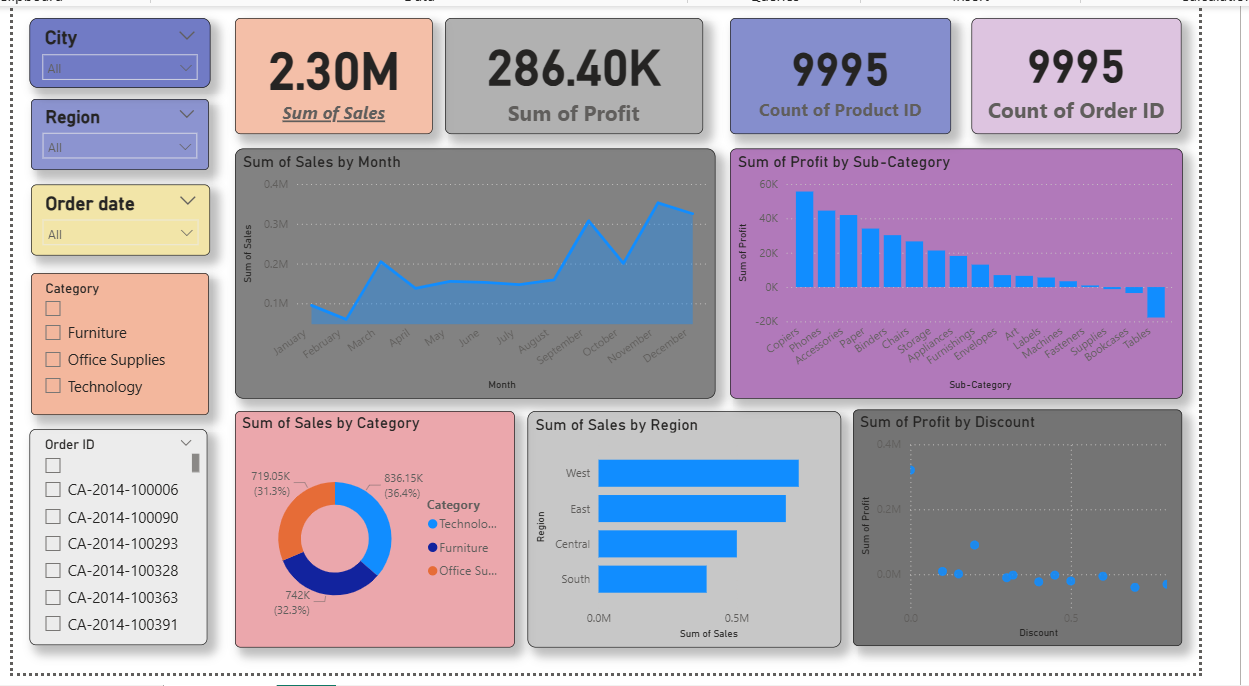

The page's visual inventory and layout, read from the dashboard file:
{"tool":"powerbi","page":{"name":"Page 1","canvas":[1280,720],"ordinal":0},"visuals":[{"type":"card","fields":{"Values":["Sum(Superstore cleaned 01.Profit)"]},"box":[466.7,13.3,278.3,125],"z":0},{"type":"card","fields":{"Values":["Sum(Superstore cleaned 01.Sales)"]},"box":[240,13.3,213.3,125],"z":1000},{"type":"card","fields":{"Values":["CountNonNull(Superstore cleaned 01.Order ID)"]},"box":[1035,13.3,226.7,125],"z":2000},{"type":"areaChart","fields":{"Category":["Superstore cleaned 01.Order date.Variation.Date Hierarchy.Month"],"Y":["Sum(Superstore cleaned 01.Sales)"]},"box":[240,153.3,518.3,270],"z":3000},{"type":"barChart","fields":{"Category":["Superstore cleaned 01.Region"],"Y":["Sum(Superstore cleaned 01.Sales)"]},"box":[555,436.7,338.3,255],"z":4000},{"type":"donutChart","fields":{"Category":["Superstore cleaned 01.Category"],"Y":["Sum(Superstore cleaned 01.Sales)"]},"box":[240,436.7,301.7,255],"z":5000},{"type":"columnChart","fields":{"Category":["Superstore cleaned 01.Sub-Category"],"Y":["Sum(Superstore cleaned 01.Profit)"]},"box":[773.3,153.3,488.3,270],"z":6000},{"type":"scatterChart","fields":{"Y":["Sum(Superstore cleaned 01.Profit)"],"X":["Superstore cleaned 01.Discount"]},"box":[906.7,435,355,255],"z":7000},{"type":"slicer","fields":{"Values":["Superstore cleaned 01.Region"]},"box":[20,100,191.7,76.7],"z":8000},{"type":"slicer","fields":{"Values":["Superstore cleaned 01.Category"]},"box":[20,288.3,191.7,153.3],"z":9000},{"type":"slicer","fields":{"Values":["Superstore cleaned 01.Order date"]},"box":[20,193.3,193.3,76.7],"z":10000},{"type":"slicer","fields":{"Values":["Superstore cleaned 01.Order ID"]},"box":[18.3,456.7,191.7,233.3],"z":10001},{"type":"card","fields":{"Values":["CountNonNull(Superstore cleaned 01.Product ID)"]},"box":[773.3,13.3,238.3,125],"z":10002},{"type":"slicer","fields":{"Values":["Superstore cleaned 01.City"]},"box":[18.3,13.3,195,75],"z":10003}]}

Visuals, with their boxes in screenshot pixels (x1, y1, x2, y2):
card - Sum(Superstore cleaned 01.Profit): select_region(445, 13, 707, 130)
card - Sum(Superstore cleaned 01.Sales): select_region(232, 13, 433, 130)
card - CountNonNull(Superstore cleaned 01.Order ID): select_region(979, 13, 1193, 130)
areaChart - Superstore cleaned 01.Order date.Variation.Date Hierarchy.Month x Sum(Superstore cleaned 01.Sales): select_region(232, 144, 719, 398)
barChart - Superstore cleaned 01.Region x Sum(Superstore cleaned 01.Sales): select_region(528, 411, 846, 650)
donutChart - Superstore cleaned 01.Category x Sum(Superstore cleaned 01.Sales): select_region(232, 411, 516, 650)
columnChart - Superstore cleaned 01.Sub-Category x Sum(Superstore cleaned 01.Profit): select_region(733, 144, 1192, 398)
scatterChart - Sum(Superstore cleaned 01.Profit) x Superstore cleaned 01.Discount: select_region(859, 409, 1193, 649)
slicer - Superstore cleaned 01.Region: select_region(25, 94, 206, 166)
slicer - Superstore cleaned 01.Category: select_region(25, 271, 206, 415)
slicer - Superstore cleaned 01.Order date: select_region(25, 182, 207, 254)
slicer - Superstore cleaned 01.Order ID: select_region(24, 429, 204, 649)
card - CountNonNull(Superstore cleaned 01.Product ID): select_region(733, 13, 957, 130)
slicer - Superstore cleaned 01.City: select_region(24, 13, 207, 83)
